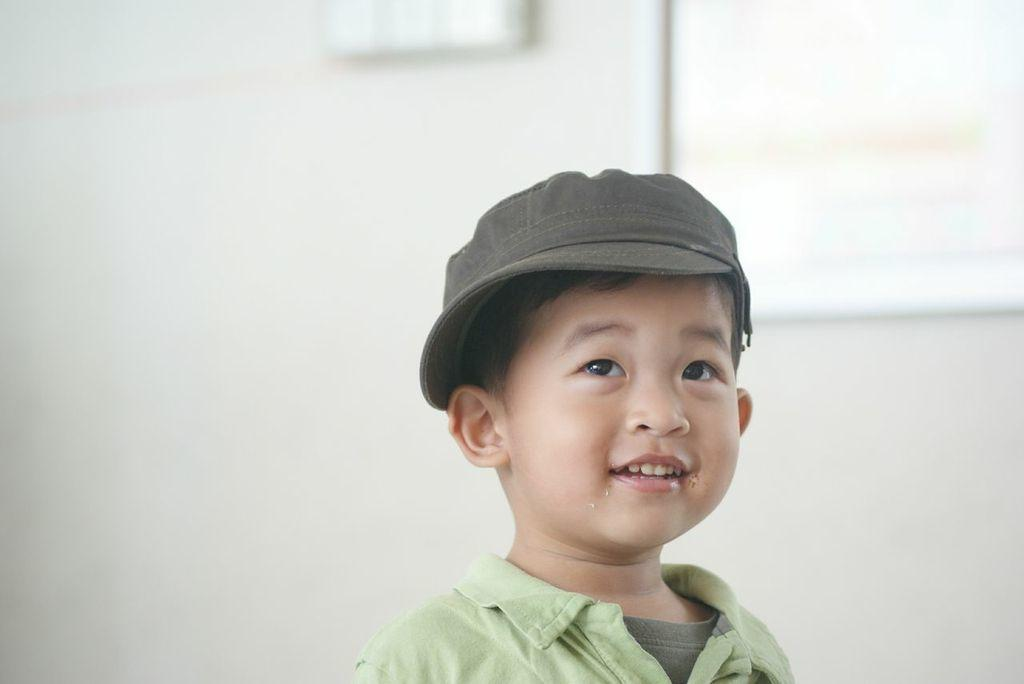Hat: (418, 170, 750, 410)
